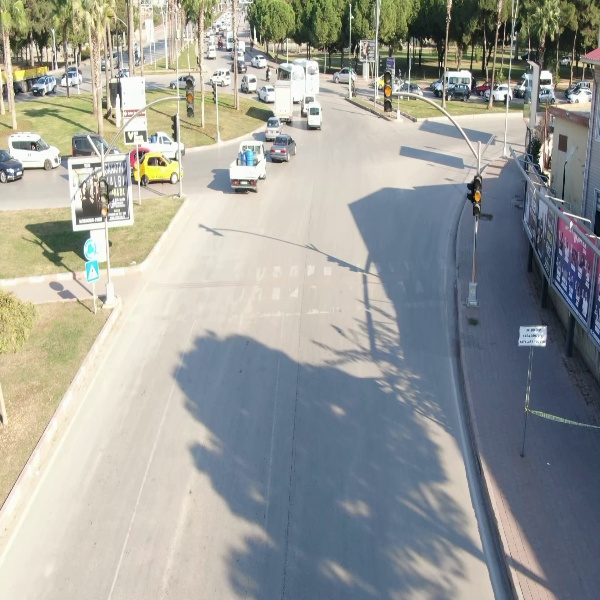car: (5, 127, 62, 172), (127, 151, 184, 185), (268, 134, 298, 163), (484, 80, 514, 104), (443, 82, 474, 104), (332, 64, 361, 87), (305, 103, 326, 133), (58, 68, 87, 89), (32, 75, 60, 96), (262, 114, 282, 143), (207, 68, 234, 87), (238, 72, 259, 94), (250, 51, 269, 73), (204, 42, 221, 65)
